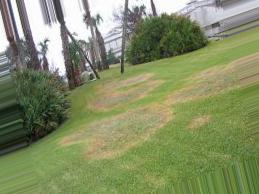patch: (85, 123, 157, 147), (99, 83, 145, 106), (181, 75, 252, 87)
